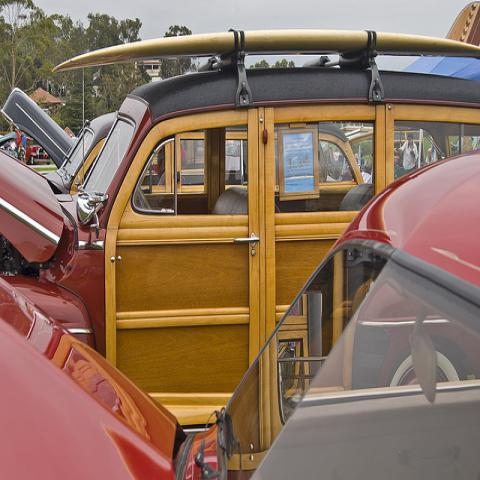car: (0, 67, 479, 430), (181, 151, 480, 475), (0, 276, 188, 479), (43, 112, 118, 189)
